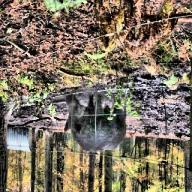boar: (63, 93, 127, 153)
